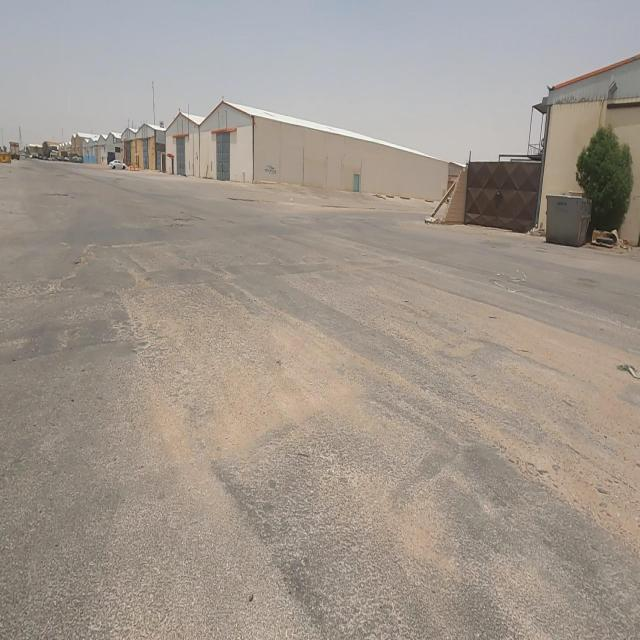Graffiti: (266, 165, 278, 177)
